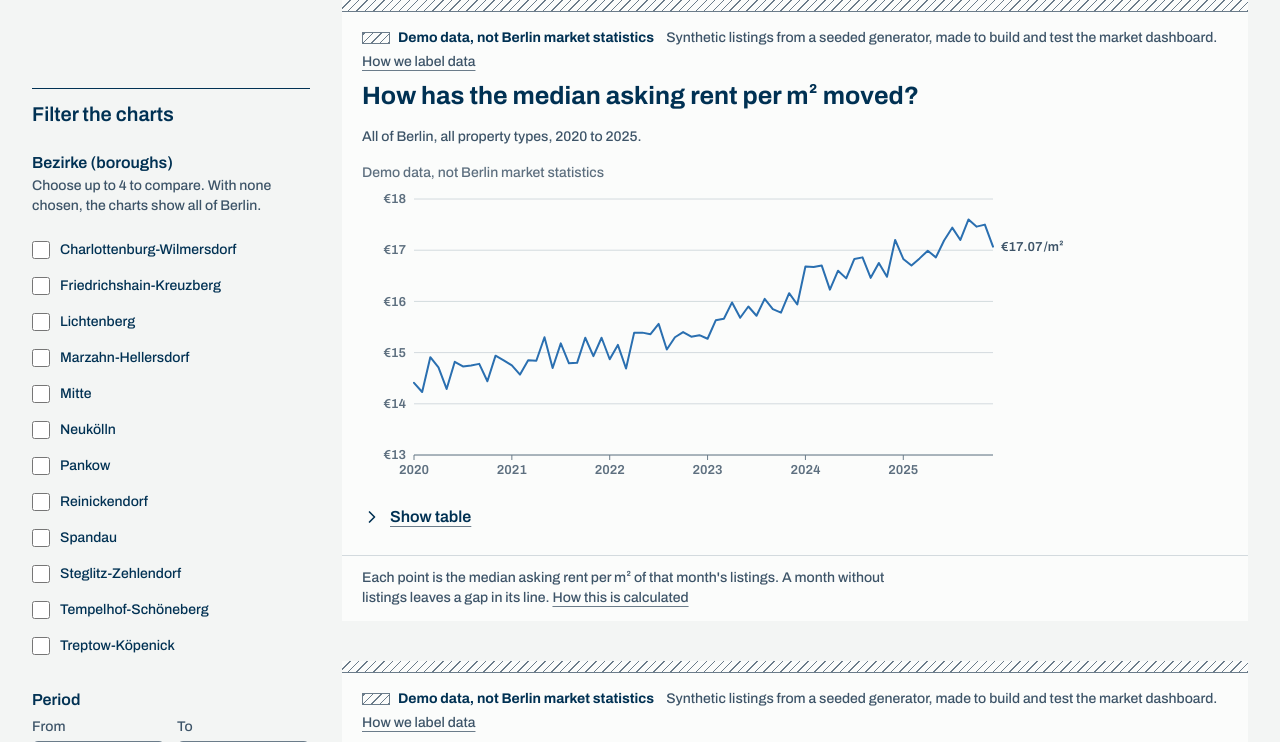
MarketView › refuses a fifth Bezirk and says why
Click the checkbox labelled "Mitte" at (41, 394), box [32,385,50,403]
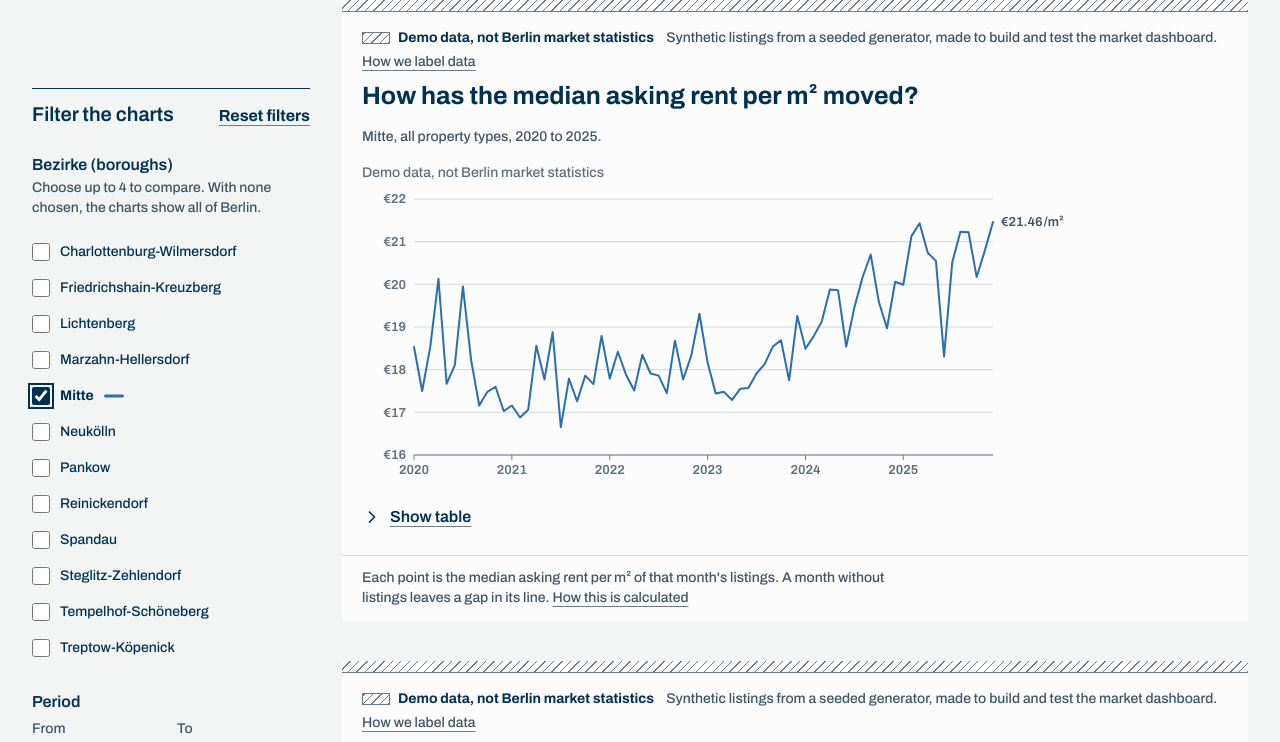
Click the checkbox labelled "Pankow" at (41, 468), box [32,459,50,477]
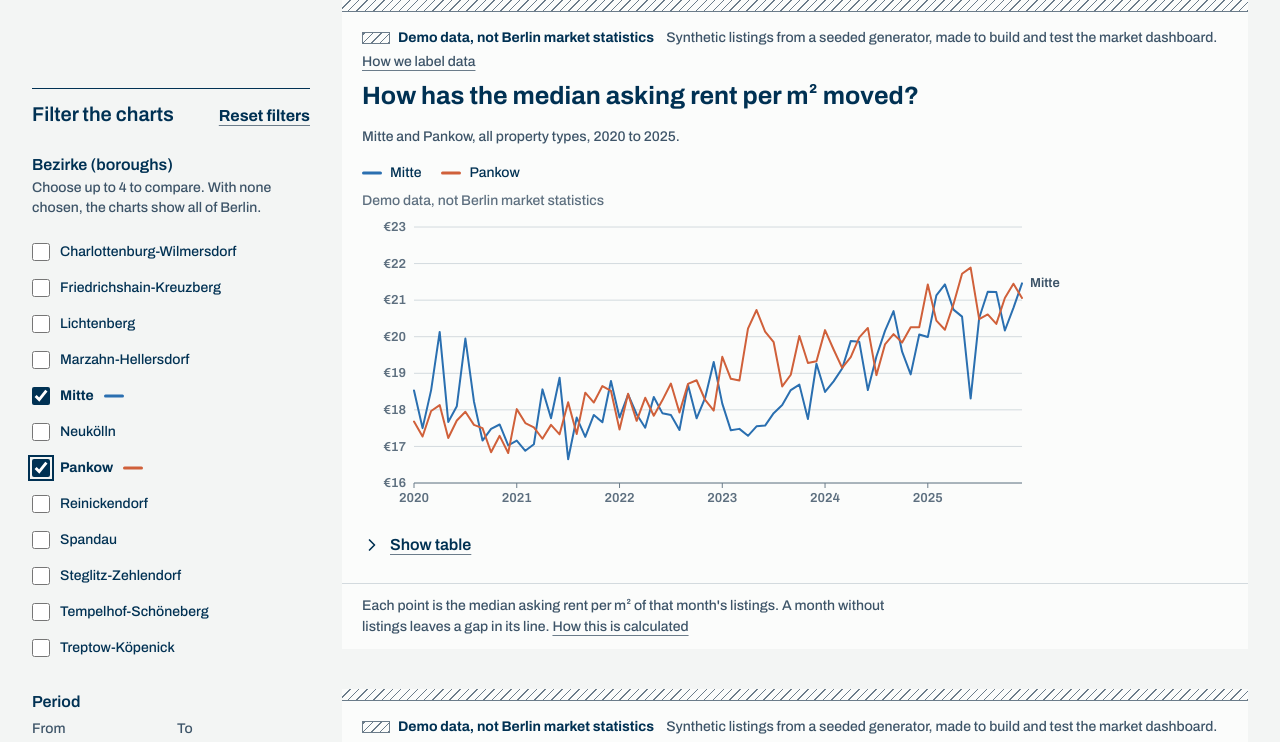
Click the checkbox labelled "Spandau" at (41, 540), box [32,531,50,549]
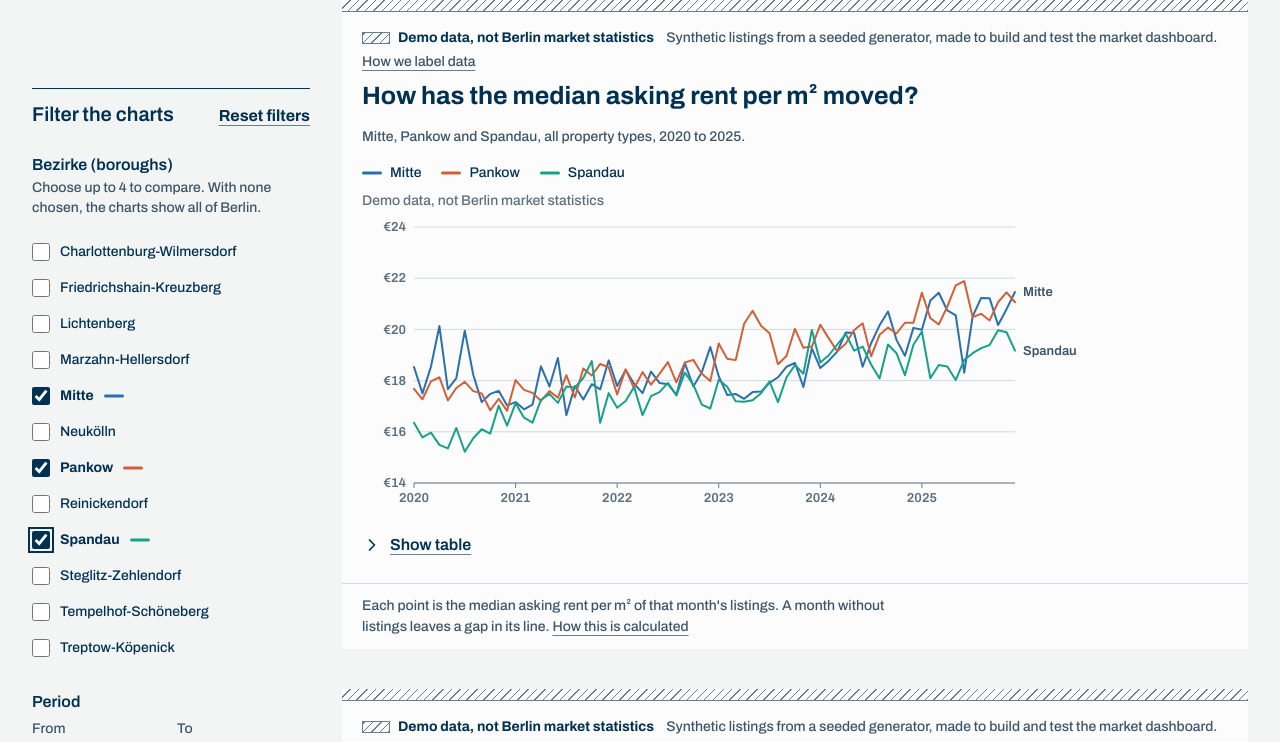
Click the checkbox labelled "Neukölln" at (41, 432), box [32,423,50,441]
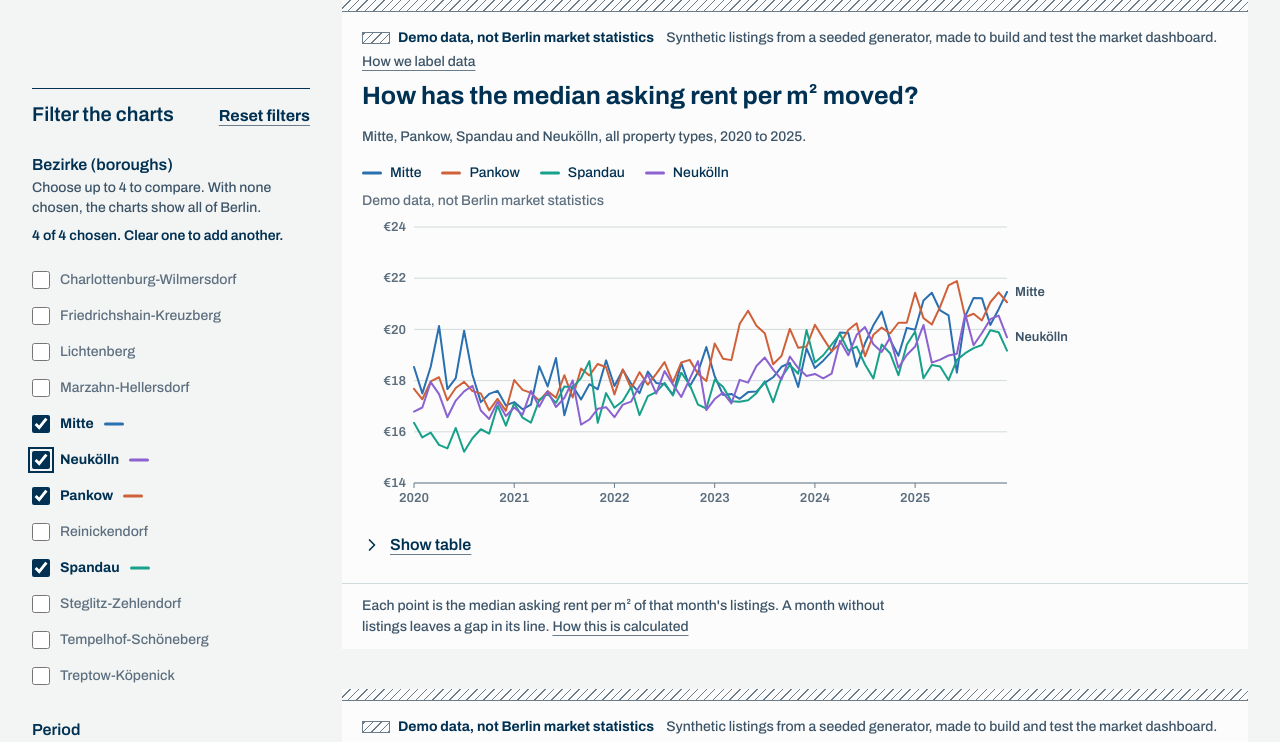
Check: the checkbox labelled "Lichtenberg" is disabled
Click the checkbox labelled "Lichtenberg" at (41, 352), box [32,344,50,362]
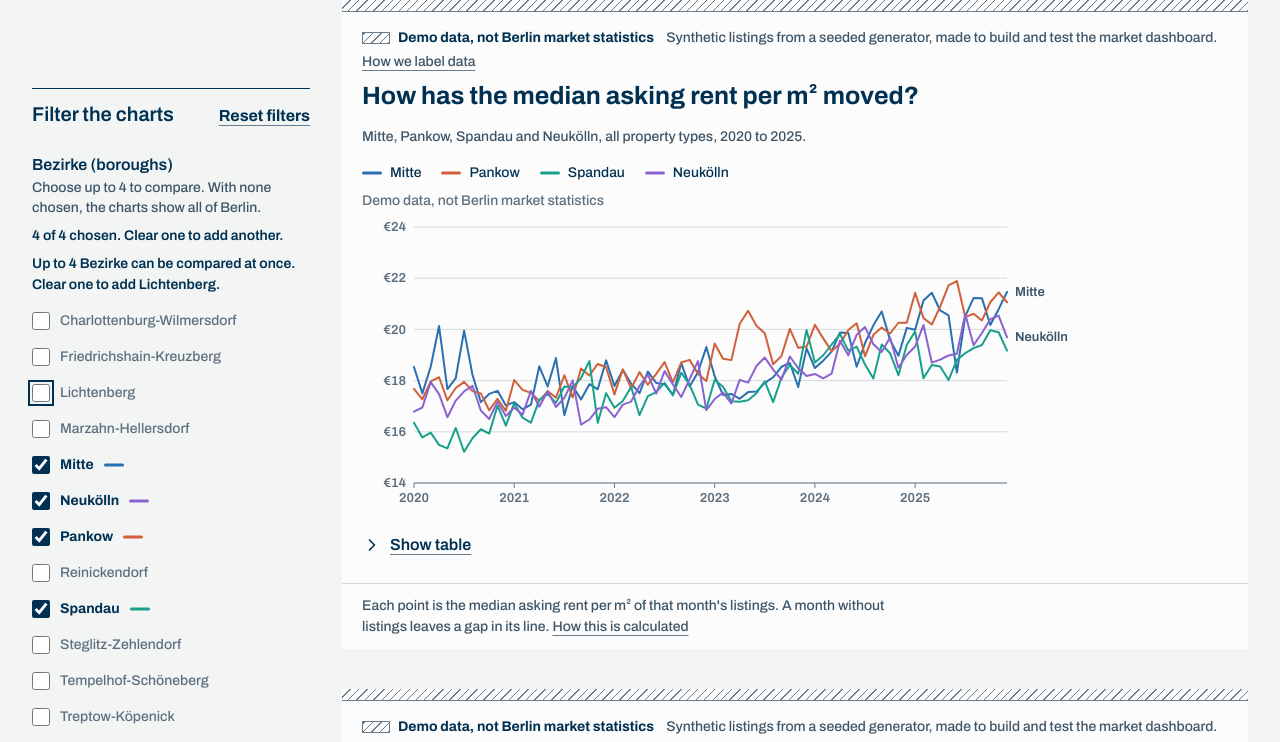
Check: the checkbox labelled "Lichtenberg" is not checked, box [32,384,50,402]
Check: the message with id "market-bezirke-status" reads "Up to 4 Bezirke can be compared at once. Clear one to add Lichtenberg.", box [32,256,296,292]
